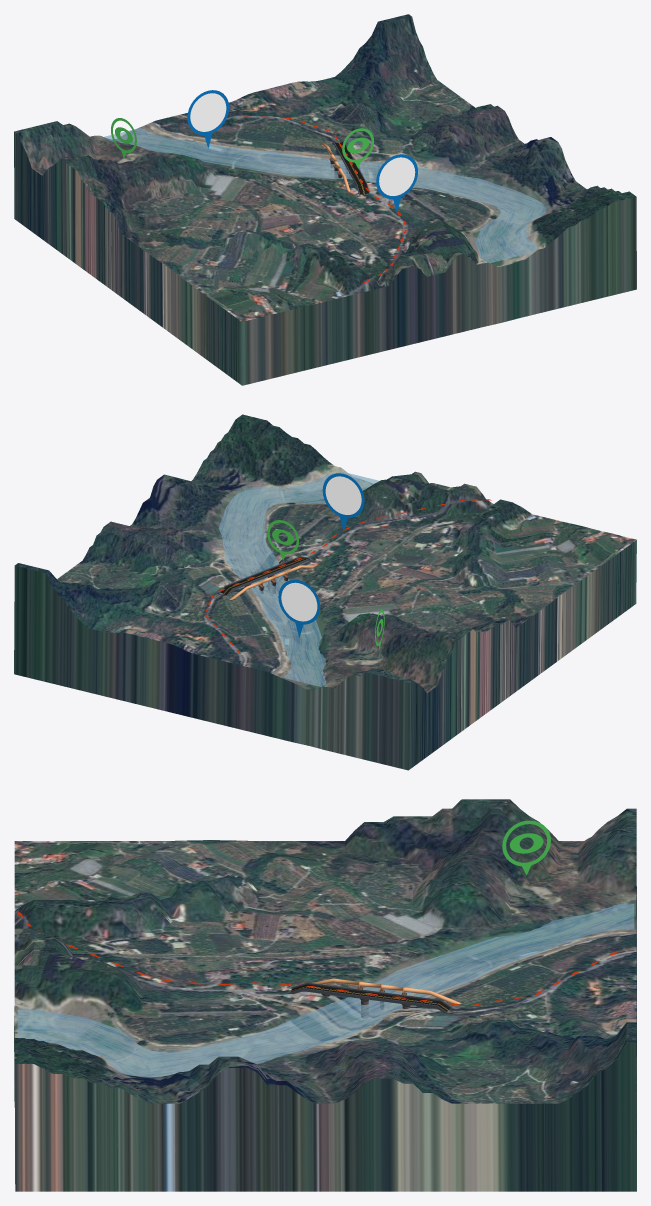
The model's file is SRW.glb.
3 views of the same model, one above another, from view 1: azimuth 30°, elevation 25°; view 2: azimuth 150°, elevation 25°; view 3: azimuth 270°, elevation 25° (orthographic). The views are drawn at different scales.
Visible parts, largest first — view 1: Terrain, River, Mark_B, Mark_A, Bridge, Target_A; view 2: Terrain, River, Mark_B, Mark_A, Bridge, Target_A; view 3: Terrain, River, Bridge, Target_A.001, WaterTube, Tube.
Part boxes in pixels (x1,y1,x2,y2): Terrain: (14, 14, 636, 385); River: (104, 128, 545, 263); Mark_B: (187, 90, 229, 148); Mark_A: (376, 154, 417, 212); Bridge: (332, 141, 369, 195); Target_A: (342, 128, 374, 168); Terrain: (14, 414, 636, 770); River: (218, 472, 378, 686); Mark_B: (278, 579, 320, 637); Mark_A: (322, 473, 364, 531); Bridge: (219, 556, 316, 595); Target_A: (267, 520, 298, 560); Terrain: (14, 799, 636, 1191); River: (17, 903, 634, 1076); Bridge: (287, 982, 452, 1018); Target_A.001: (502, 820, 550, 874); WaterTube: (312, 978, 461, 1009); Tube: (18, 911, 618, 1005).
Size of the model in its own units: 8.92 by 2.98 by 8.92.
8 materials, 6 textured.
